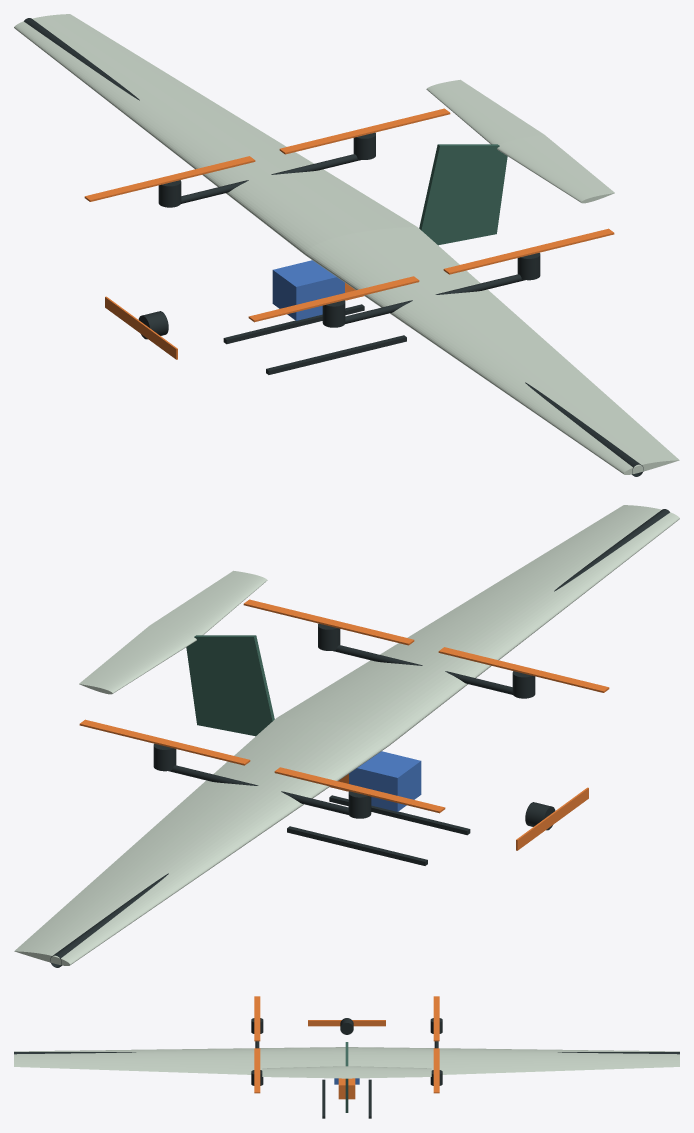
The model's file is 06-internal.glb.
3 renders of one model, top to bottom at view 1: azimuth 30°, elevation 25°; view 2: azimuth 150°, elevation 25°; view 3: azimuth 270°, elevation 25°, orthographic. The views are drawn at different scales.
Parts seen in each view (by area): view 1: wing-1, wing1, fin, tail-1, tail1, payload, wing_spar, prop_-1_220.0, prop_-1_700.0, prop_1_220.0, prop_1_700.0, skid-1 (+4 smaller); view 2: wing1, wing-1, fin, tail1, tail-1, payload, wing_spar, prop_1_220.0, prop_1_700.0, prop_-1_220.0, prop_-1_700.0, skid1 (+4 smaller); view 3: wing-1, wing1, tail-1, tail1, cruise_prop, wing_spar, battery, prop_-1_220.0, prop_-1_700.0, prop_1_220.0, prop_1_700.0, fin.
Part boxes in pixels (x1,y1,x2,y2): wing-1: (305,227,679,474); wing1: (14,14,416,254); fin: (419,144,507,245); tail-1: (497,134,614,203); tail1: (426,79,543,144); payload: (272,260,344,320); wing_spar: (24,18,643,476); prop_-1_220.0: (248,276,419,322); prop_-1_700.0: (443,228,614,274); prop_1_220.0: (84,156,255,201); prop_1_700.0: (279,108,450,154); skid-1: (266,335,406,374); wing1: (14,718,388,965); wing-1: (277,505,679,745); fin: (186,635,274,736); tail1: (79,625,196,694); tail-1: (150,570,267,635); payload: (349,751,421,811); wing_spar: (50,509,669,967); prop_1_220.0: (274,767,445,813); prop_1_700.0: (79,719,250,765); prop_-1_220.0: (438,647,609,692); prop_-1_700.0: (243,599,414,645); skid1: (287,826,427,865); wing-1: (14,1047,345,1074); wing1: (348,1047,679,1074); tail-1: (262,1066,346,1078); tail1: (347,1066,431,1078); cruise_prop: (308,1020,385,1026); wing_spar: (14,1052,679,1054); battery: (338,1078,355,1099); prop_-1_220.0: (254,996,260,1041); prop_-1_700.0: (254,1048,260,1093); prop_1_220.0: (433,996,439,1041); prop_1_700.0: (433,1048,439,1093); fin: (345,1042,348,1112).
Bounding box in the file's own units: 994 × 392 × 2600.
